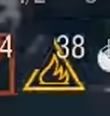1fire: (20, 59, 87, 93)
